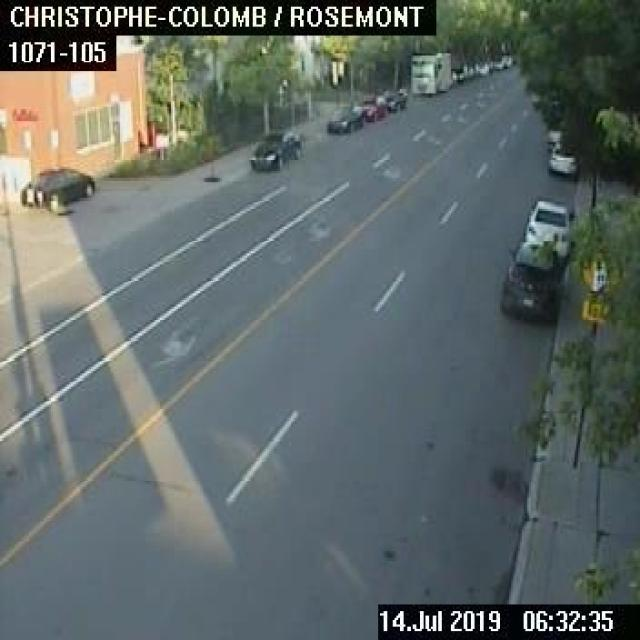vehicle: (498, 241, 559, 319), (19, 166, 93, 209), (524, 198, 573, 253), (249, 131, 298, 169), (410, 51, 450, 94), (548, 139, 576, 174), (326, 105, 362, 132), (360, 95, 384, 119), (383, 90, 406, 110), (450, 63, 466, 83), (474, 62, 487, 74), (493, 56, 502, 68), (502, 54, 509, 66)
